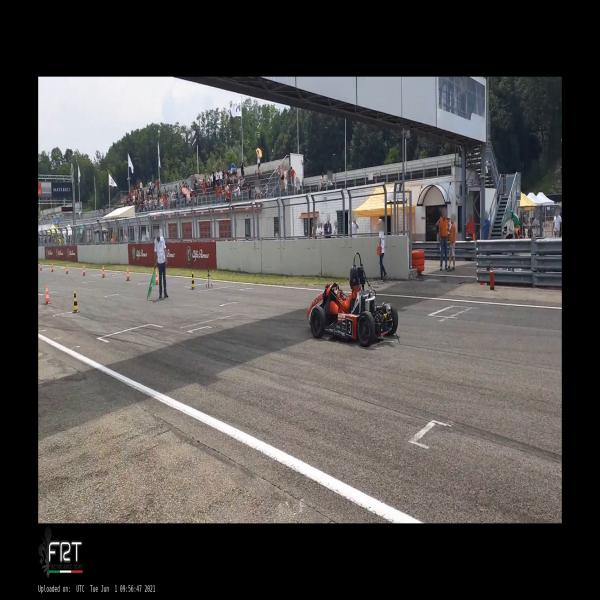large_orange_cone: (45, 286, 51, 304), (126, 266, 131, 280), (155, 269, 159, 285), (102, 266, 107, 278), (82, 265, 87, 276)
unknown_cone: (72, 290, 80, 313), (189, 272, 196, 290)
